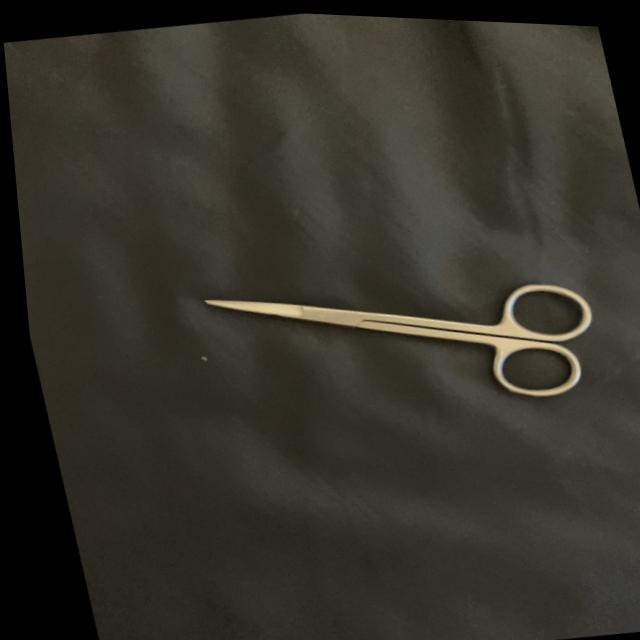scissor: (184, 225, 619, 448)
